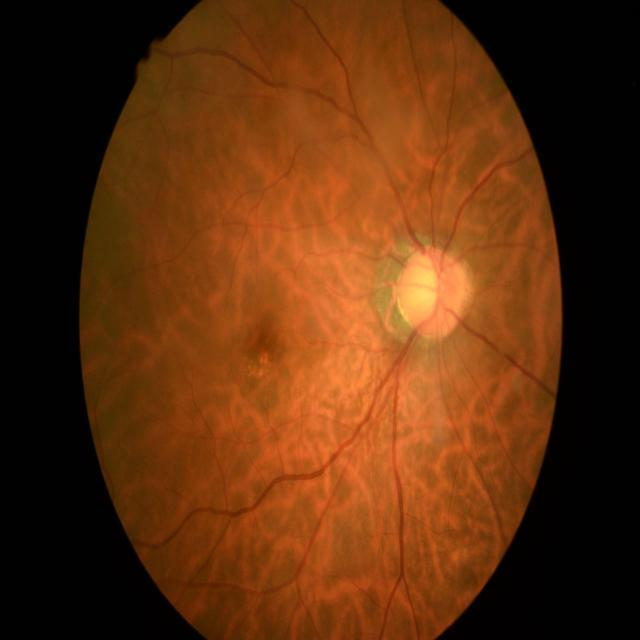cup: (405, 255, 452, 324)
disk: (396, 246, 472, 335)
